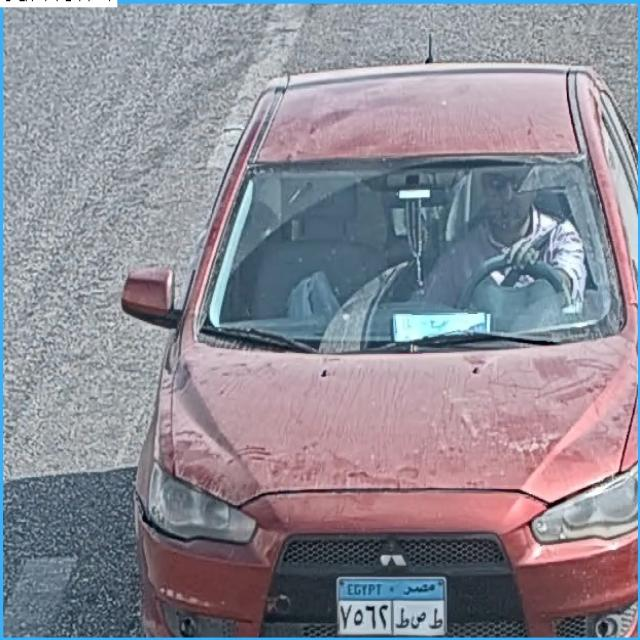windshield: (180, 162, 622, 345)
